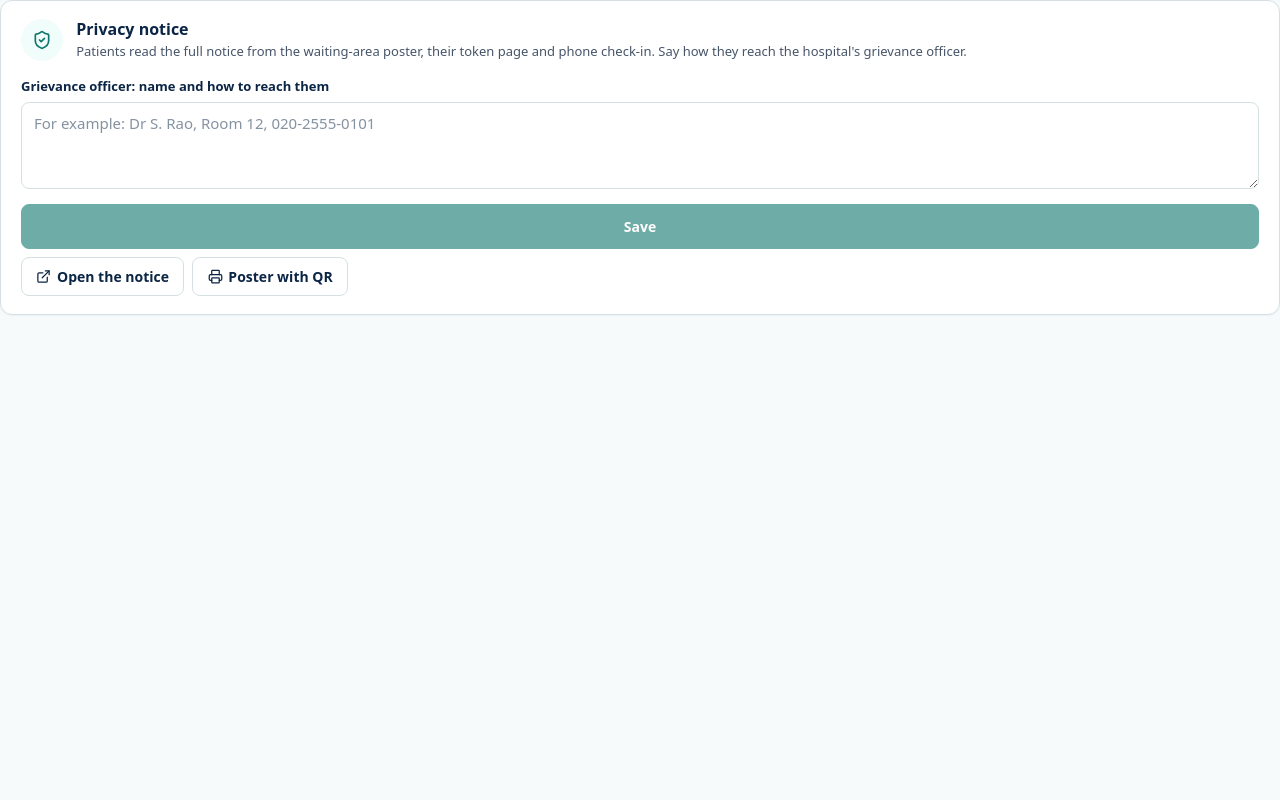
Test: privacy notice settings › says why there is no QR when the server does not know its address
Click the button "Poster with QR". click: click(270, 277)
box: [192,257,348,296]
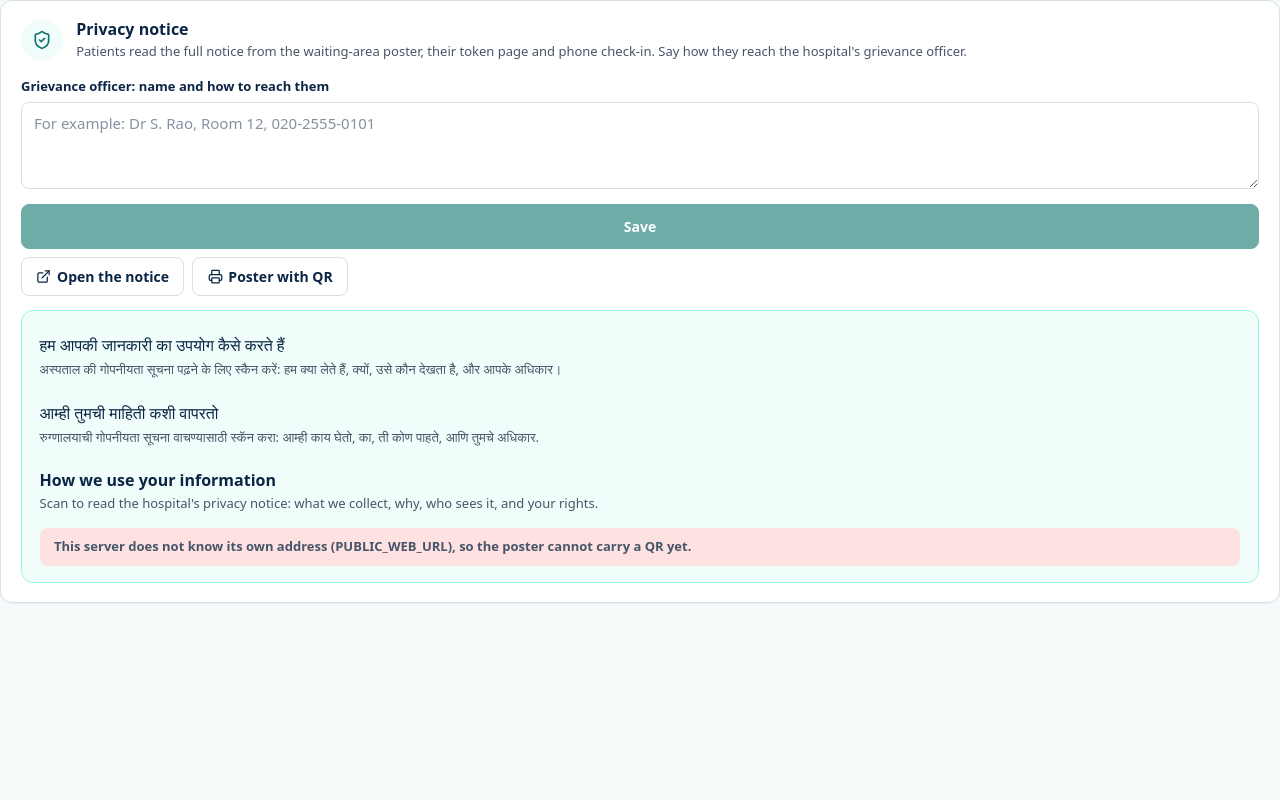
Result: the message shows "PUBLIC_WEB_URL" at [54,537,691,555]
